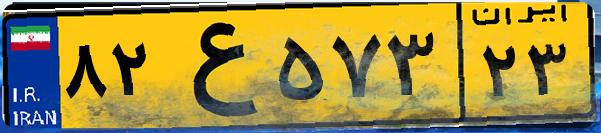2: (475, 38, 525, 113), (110, 28, 158, 98)
3: (385, 28, 445, 110), (525, 38, 570, 115)
5: (270, 28, 330, 110)
7: (330, 28, 385, 110)
8: (57, 26, 110, 100)
ع: (158, 12, 270, 120)
